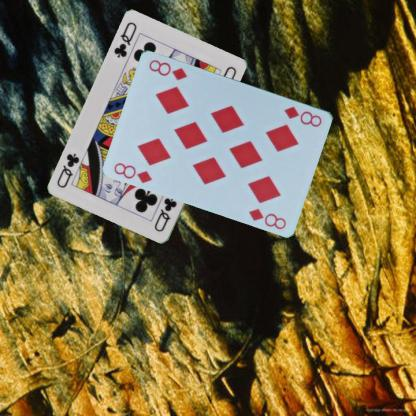8d: (282, 104, 324, 128), (112, 160, 154, 184)
Qc: (112, 20, 138, 60), (152, 196, 178, 233)
